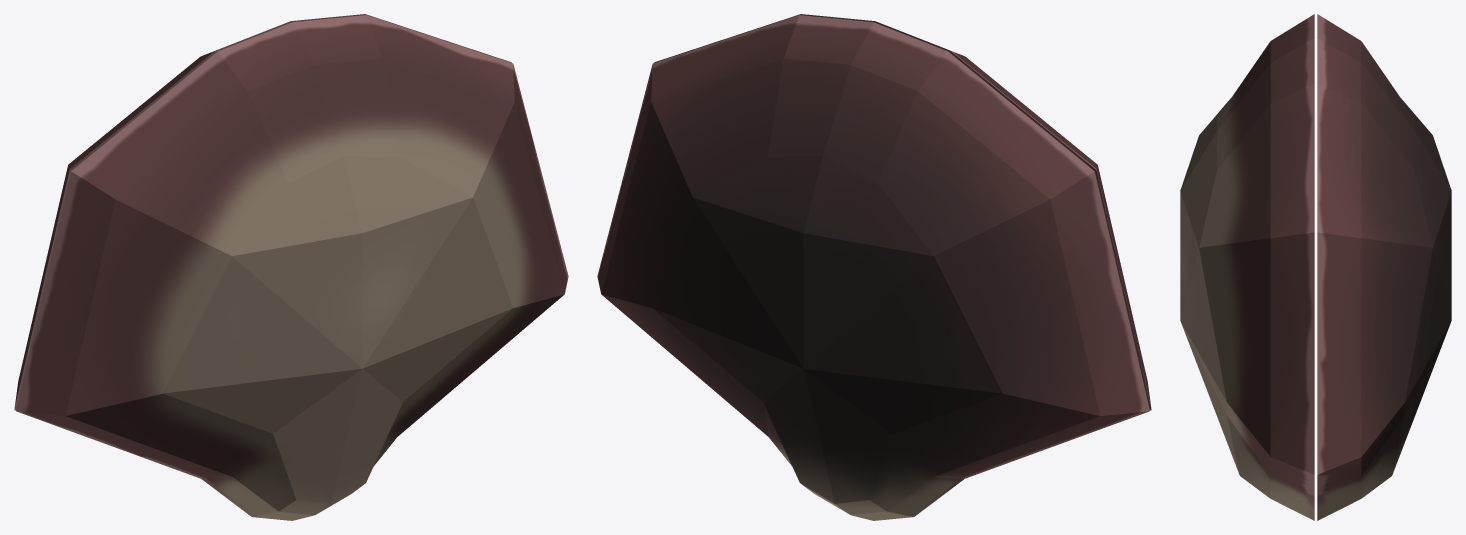
The model's file is seashell.fbx.
The picture shows the model from 3 angles, left to right: view 1: azimuth 30°, elevation 25°; view 2: azimuth 150°, elevation 25°; view 3: azimuth 270°, elevation 25°; orthographic projection. The views are drawn at different scales.
Parts seen in each view (by area): view 1: Cube.001; view 2: Cube.001; view 3: Cube.001.
Boxes of the visible parts, left/top/right/bottom form: Cube.001: left=14, top=14, right=568, bottom=520; Cube.001: left=597, top=14, right=1151, bottom=520; Cube.001: left=1180, top=14, right=1451, bottom=520.
Bounding box in the file's own units: 222 × 191 × 98.49.
Materials: 1 (1 with a texture image).
